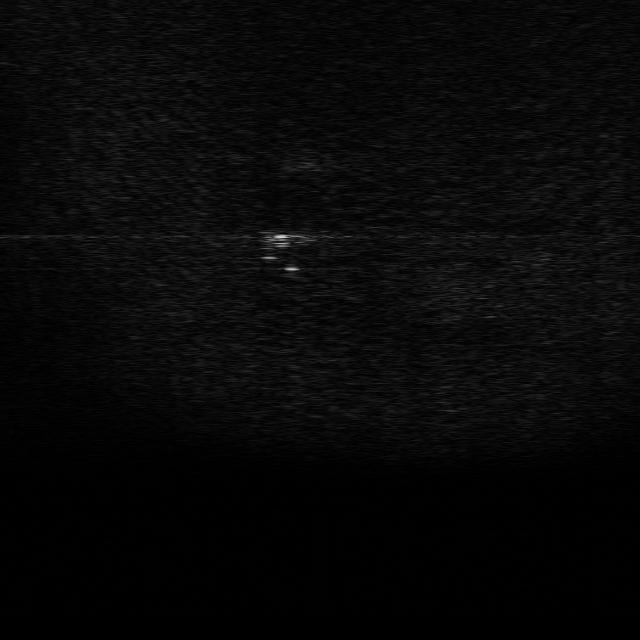plane: (252, 228, 324, 273)
